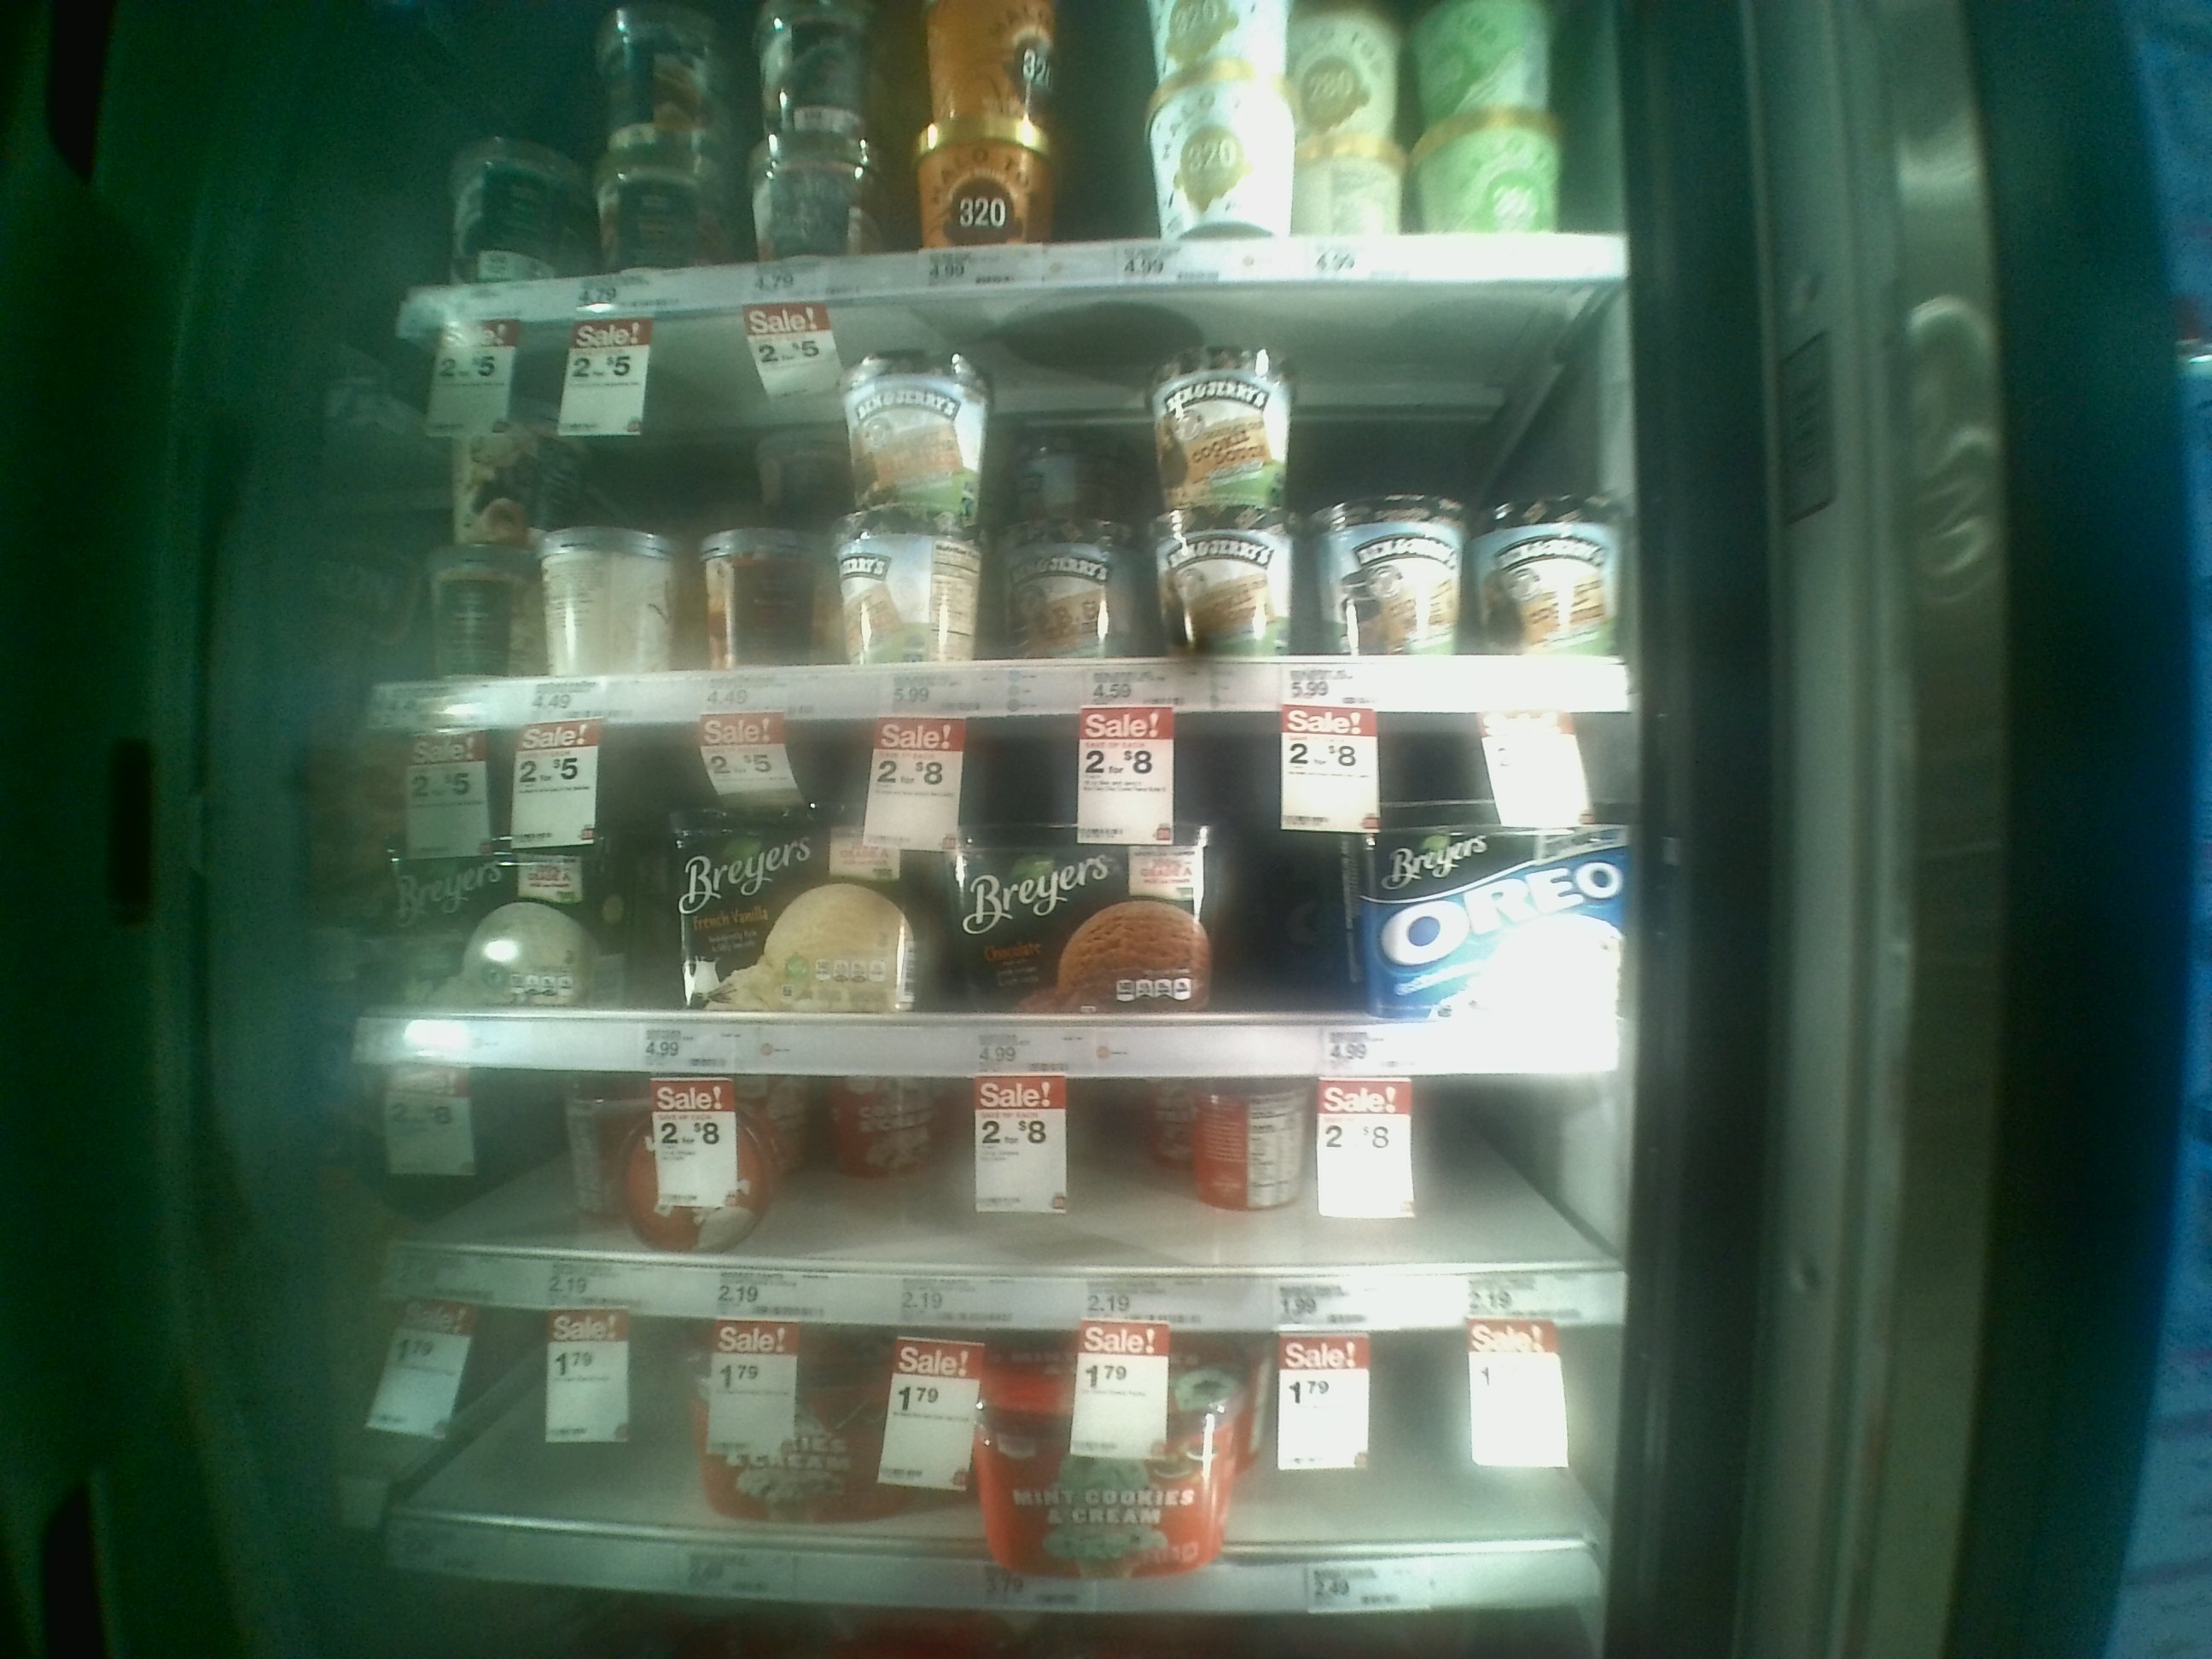ice-cream-shelf: (366, 706, 1635, 1068), (380, 1063, 1629, 1321)
